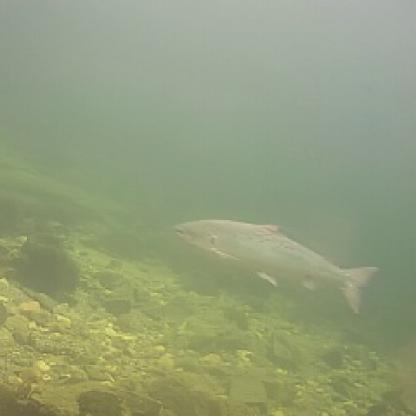salmon: (166, 210, 380, 312)
